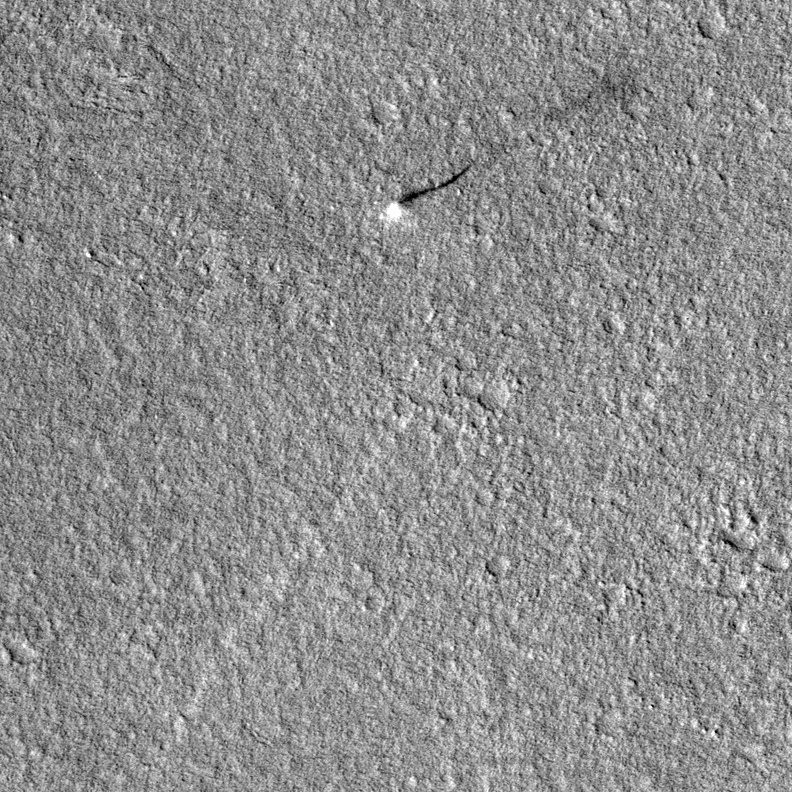dust_devil: (379, 162, 475, 228)
